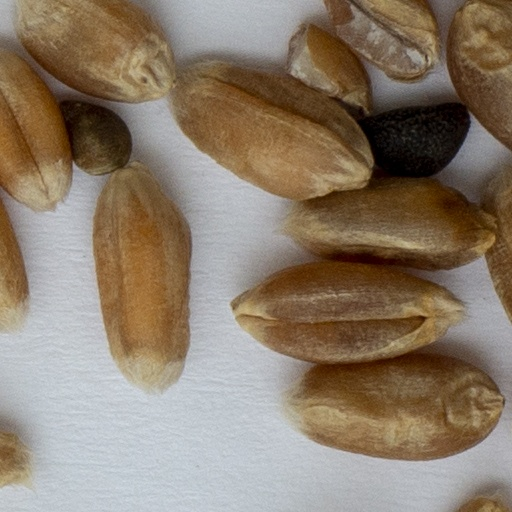Wheat-grain-damaged-poly: (321, 0, 443, 83), (287, 25, 373, 113)
